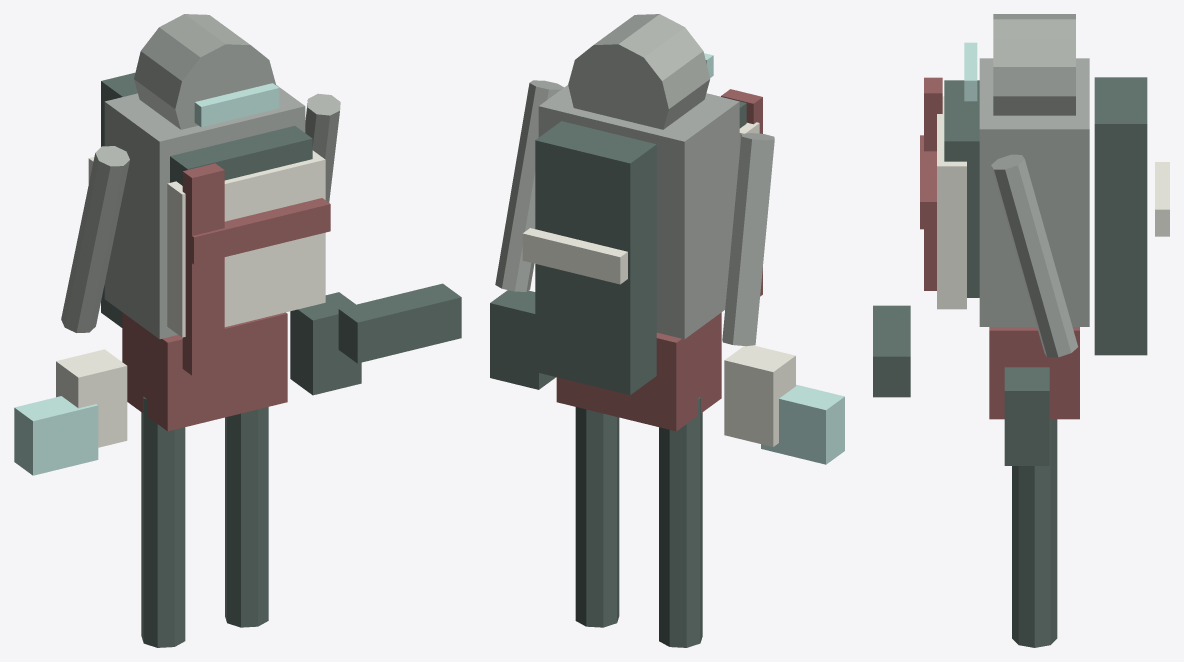
File: medic-operator-v1.glb
3 views of the same model, side by side, from view 1: azimuth 30°, elevation 25°; view 2: azimuth 150°, elevation 25°; view 3: azimuth 270°, elevation 25° (orthographic).
Parts seen in each view (by area): view 1: torso:chest, torso:white-field-jacket, hips:pelvis, leftLeg:boot, head:helmet, rightLeg:boot, torso:red-harness, weapon:pulse-pistol, leftArm:upper, hipMount:triage-pouch, hipMount:right, torso:red-harness-cross (+5 smaller); view 2: backMount:pack, torso:chest, head:helmet, leftLeg:boot, rightLeg:boot, hips:pelvis, leftArm:upper, hipMount:left, rightArm:upper, hipMount:triage-pouch, hipMount:right, backMount:med-cross (+1 smaller); view 3: torso:chest, backMount:pack, rightLeg:boot, head:helmet, rightArm:upper, hips:pelvis, torso:white-field-jacket, hipMount:right, torso:vest, weapon:pulse-pistol, torso:red-harness, torso:red-harness-cross (+2 smaller).
Part boxes in pixels (x1,y1,x2,y2): torso:chest: [104, 85, 305, 339]; torso:white-field-jacket: [167, 150, 325, 337]; hips:pelvis: [122, 312, 287, 431]; leftLeg:boot: [141, 397, 185, 647]; head:helmet: [134, 14, 275, 129]; rightLeg:boot: [225, 407, 268, 627]; torso:red-harness: [182, 163, 224, 375]; weapon:pulse-pistol: [338, 283, 461, 363]; leftArm:upper: [61, 146, 129, 332]; hipMount:triage-pouch: [14, 396, 98, 475]; hipMount:right: [290, 292, 361, 395]; torso:red-harness-cross: [185, 198, 330, 264]; backMount:pack: [535, 121, 656, 395]; torso:chest: [538, 85, 739, 339]; head:helmet: [568, 14, 709, 129]; leftLeg:boot: [659, 397, 702, 647]; rightLeg:boot: [575, 407, 619, 627]; hips:pelvis: [556, 312, 721, 431]; leftArm:upper: [722, 133, 774, 346]; hipMount:left: [724, 345, 795, 446]; rightArm:upper: [495, 80, 563, 291]; hipMount:triage-pouch: [761, 384, 844, 464]; hipMount:right: [490, 290, 555, 389]; backMount:med-cross: [522, 228, 627, 284]; torso:chest: [979, 58, 1089, 326]; backMount:pack: [1094, 77, 1147, 355]; rightLeg:boot: [1012, 419, 1057, 647]; head:helmet: [993, 14, 1075, 115]; rightArm:upper: [991, 154, 1077, 357]; hips:pelvis: [989, 327, 1079, 419]; torso:white-field-jacket: [937, 96, 966, 309]; hipMount:right: [1004, 367, 1049, 465]; torso:vest: [944, 80, 979, 297]; weapon:pulse-pistol: [873, 305, 910, 397]; torso:red-harness: [924, 77, 942, 290]; torso:red-harness-cross: [920, 135, 936, 229].
Bounding box in the file's own units: 1.12 × 1.76 × 0.79.
